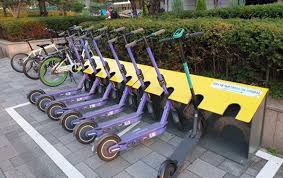kick_handler: (128, 29, 164, 47), (159, 28, 203, 40)
kick_wheel: (95, 134, 119, 162), (74, 121, 95, 145), (61, 110, 77, 132), (158, 162, 179, 178), (38, 95, 50, 111), (48, 103, 60, 119), (27, 90, 39, 105)
